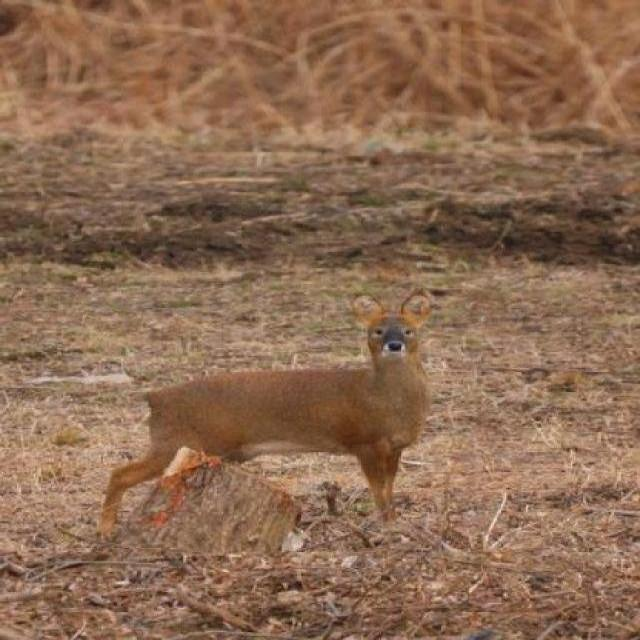deer: (89, 289, 442, 546)
